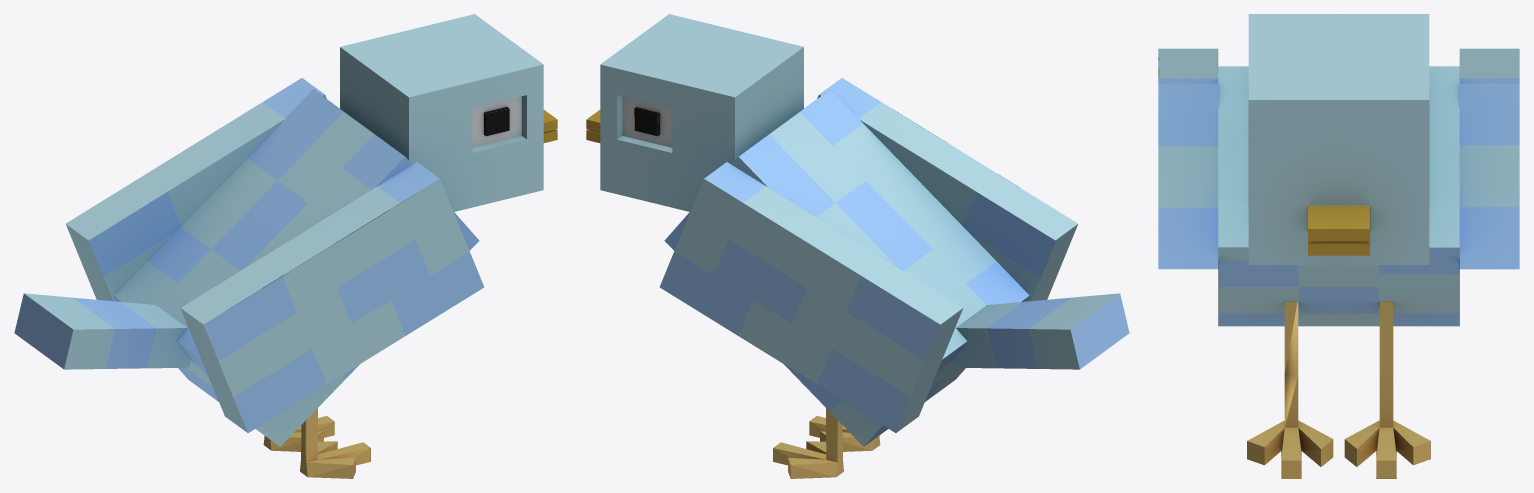
File: Bird1.dae
3 views of the same model, side by side, from view 1: azimuth 30°, elevation 25°; view 2: azimuth 150°, elevation 25°; view 3: azimuth 270°, elevation 25° (orthographic). The views are drawn at different scales.
Parts seen in each view (by area): view 1: Bird_Body_Cube; view 2: Bird_Body_Cube; view 3: Bird_Body_Cube.
Boxes of the visible parts, box(x1,y1,x2,y2) form: Bird_Body_Cube: box(14, 14, 557, 478); Bird_Body_Cube: box(586, 14, 1129, 478); Bird_Body_Cube: box(1158, 14, 1519, 478).
Bounding box in the file's own units: 1.4 × 0.6586 × 0.9674.
Materials: 1 (1 with a texture image).
